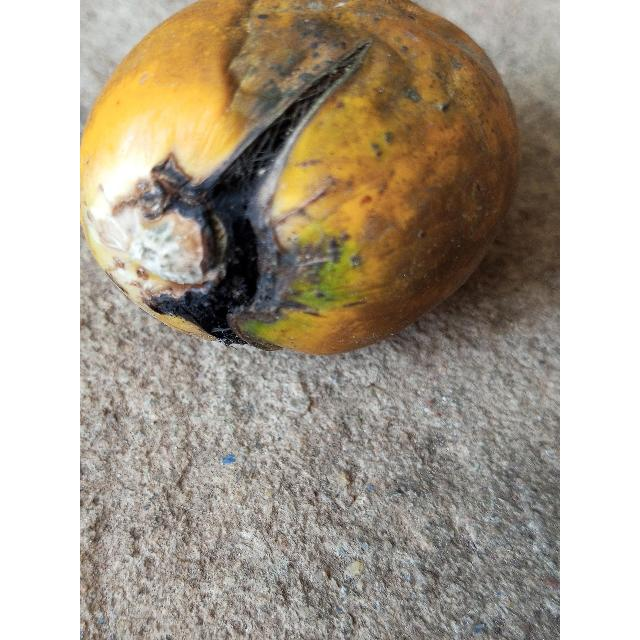damaged: (80, 0, 522, 358)
